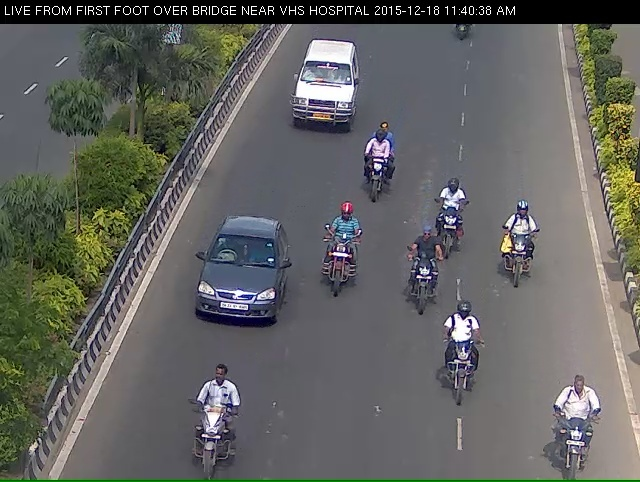Car: (189, 230, 279, 351), (291, 42, 356, 145)
Person: (549, 393, 605, 480), (437, 337, 487, 431), (315, 223, 357, 327), (177, 397, 229, 479), (495, 218, 539, 304), (402, 246, 438, 337), (437, 195, 467, 278), (364, 138, 386, 217)
